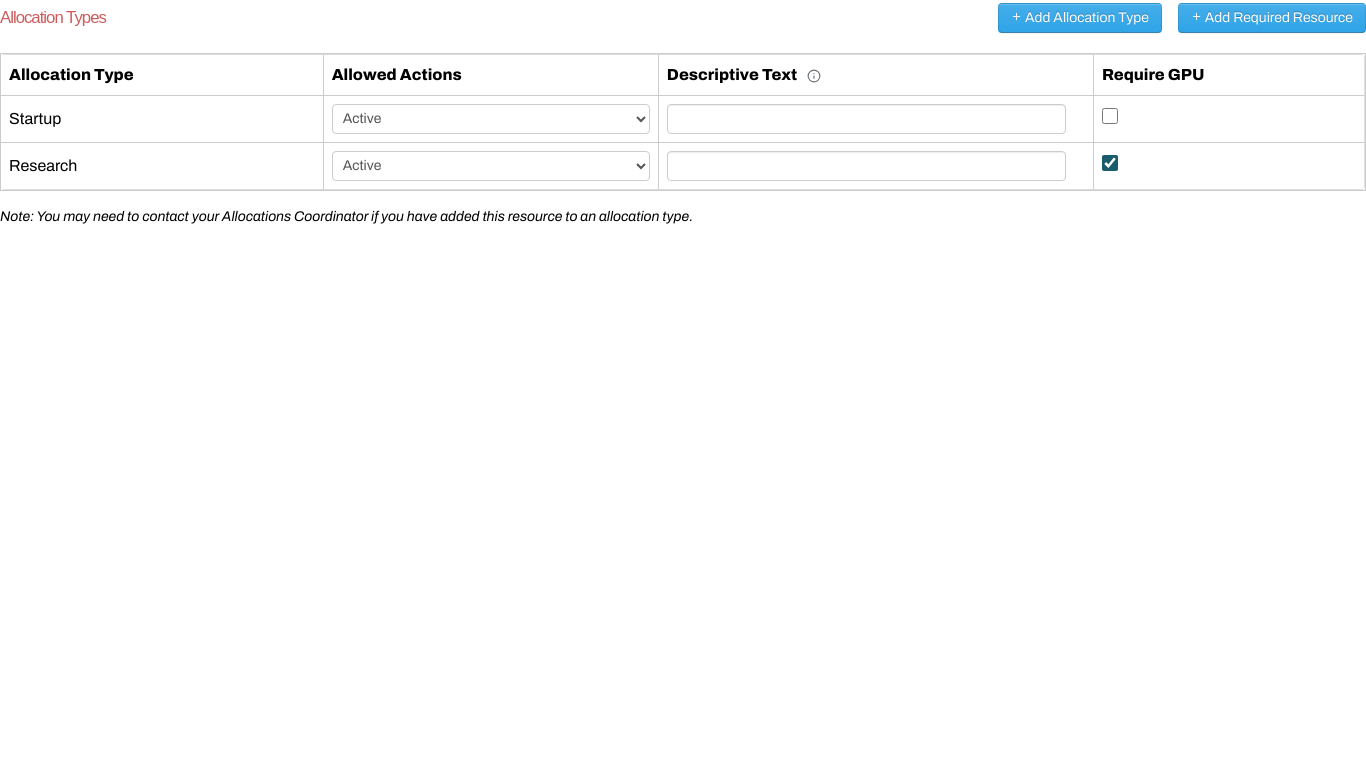
Test: AllocationTypesSection - required resource columns › removes the column from every allocation type when a resource is unchecked
The width and height of the screenshot is (1366, 768).
Click the button "Add Required Resource". click: (1272, 18)
box: left=1178, top=3, right=1365, bottom=33
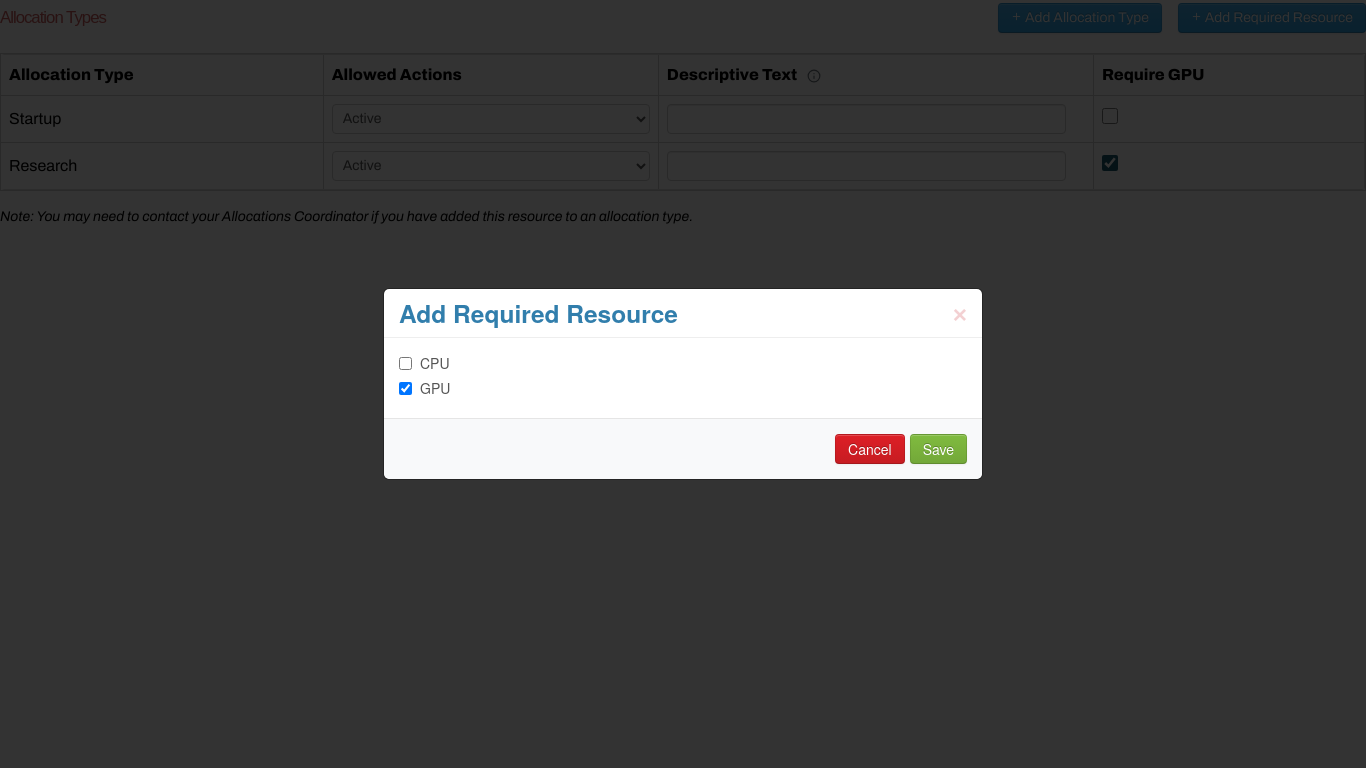
Click the checkbox labelled "GPU". click: (406, 388)
box: left=399, top=382, right=412, bottom=394
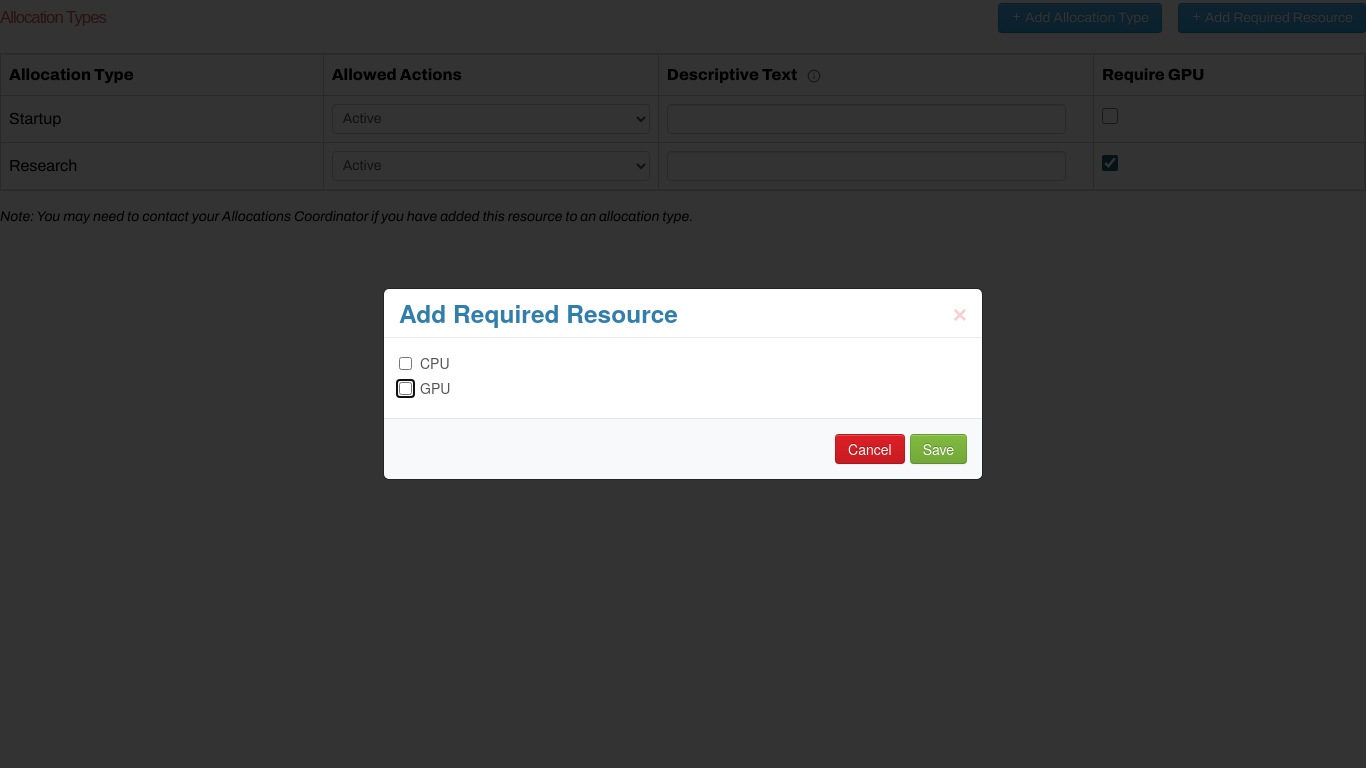
Result: the checkbox labelled "GPU" is not checked at left=399, top=382, right=412, bottom=394
Click the button "Save". click: (938, 449)
box: left=910, top=434, right=967, bottom=464
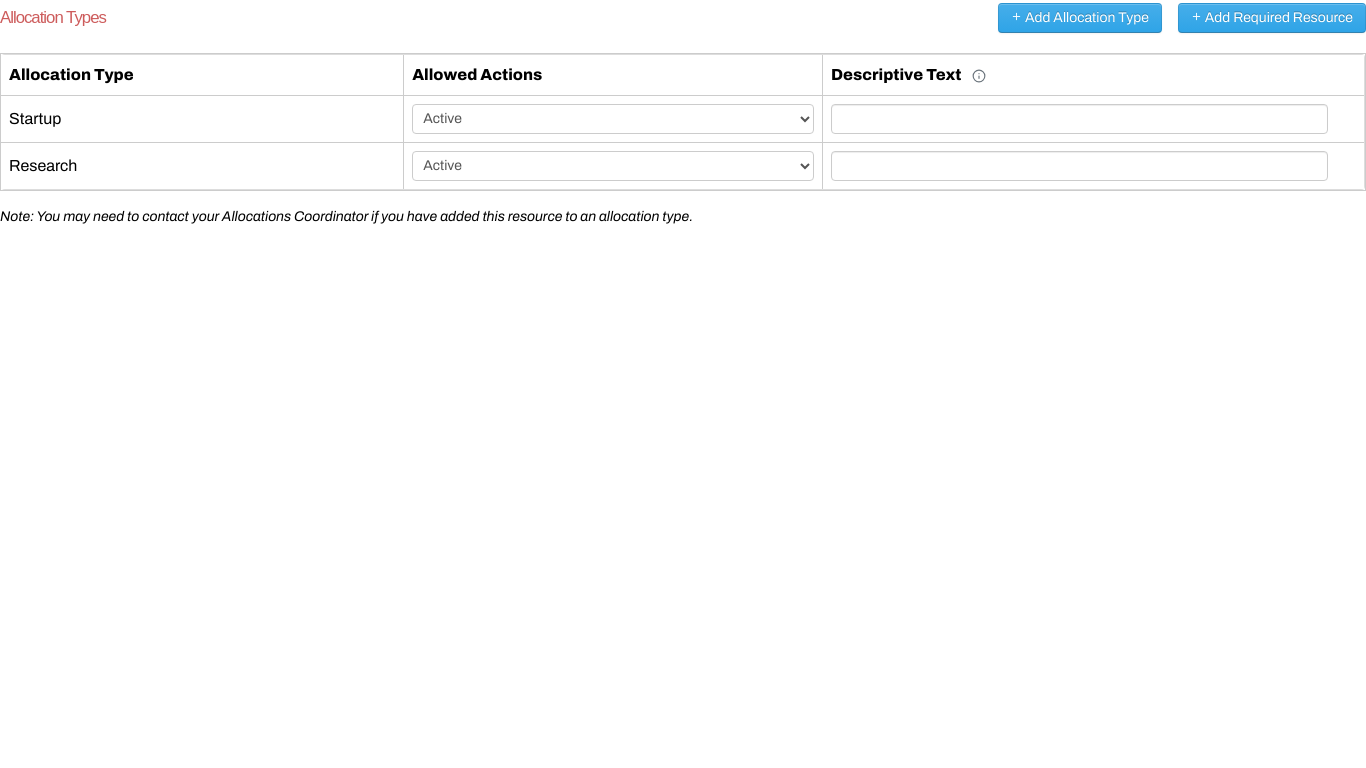
Result: the dialog is gone
